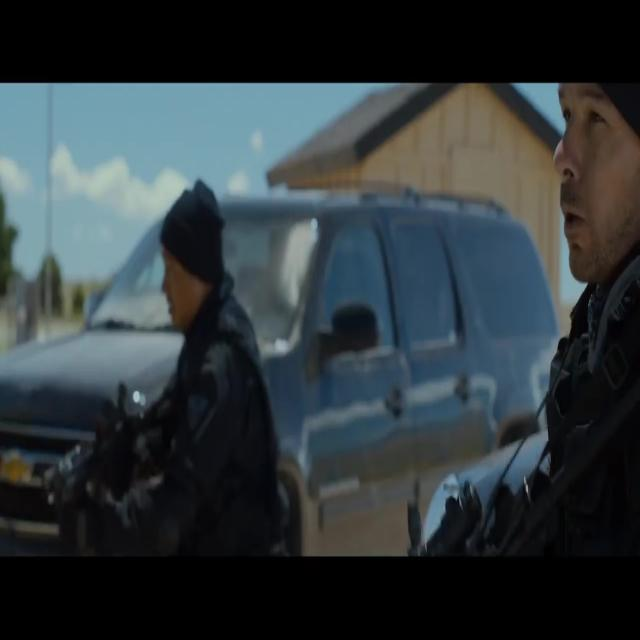Weapon: (411, 321, 610, 598), (24, 413, 230, 528)
